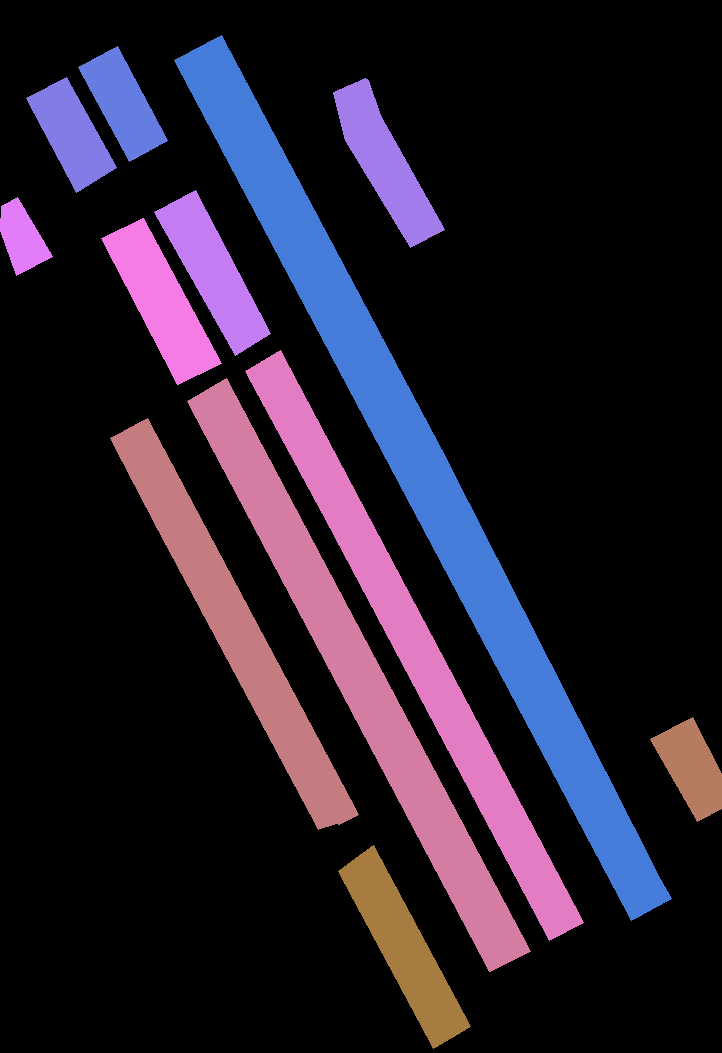parkingspot: (174, 35, 671, 920), (187, 378, 530, 971), (245, 350, 583, 940), (110, 418, 358, 829), (338, 845, 470, 1048), (101, 218, 221, 384), (154, 190, 270, 355), (333, 78, 444, 247), (26, 77, 116, 192), (78, 46, 167, 161), (650, 717, 722, 821), (0, 197, 52, 275)
